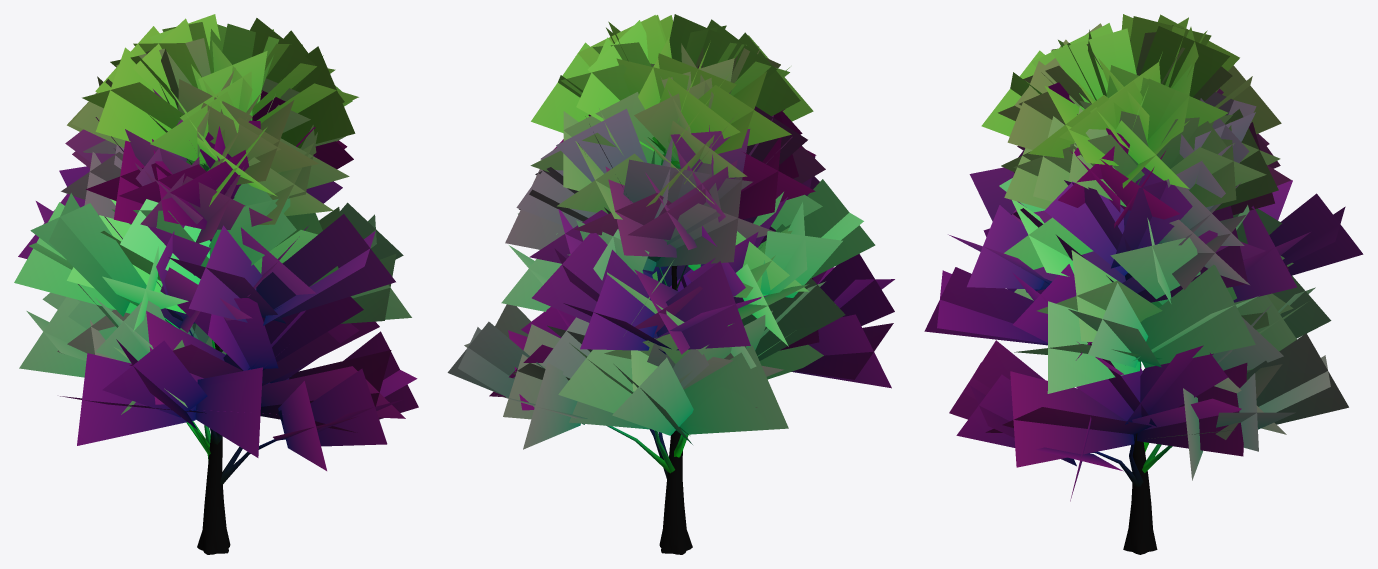
The model's file is Tree_8_7.fbx.
3 views of the same model, side by side, from view 1: azimuth 30°, elevation 25°; view 2: azimuth 150°, elevation 25°; view 3: azimuth 270°, elevation 25° (orthographic).
Visible parts, largest first — view 1: _10; view 2: _10; view 3: _10.
Boxes of the visible parts, x1,y1,x2,y2 form: _10: [14, 14, 418, 554]; _10: [447, 14, 894, 554]; _10: [924, 14, 1363, 554].
Size of the model in its own units: 989 by 1380 by 1056.
